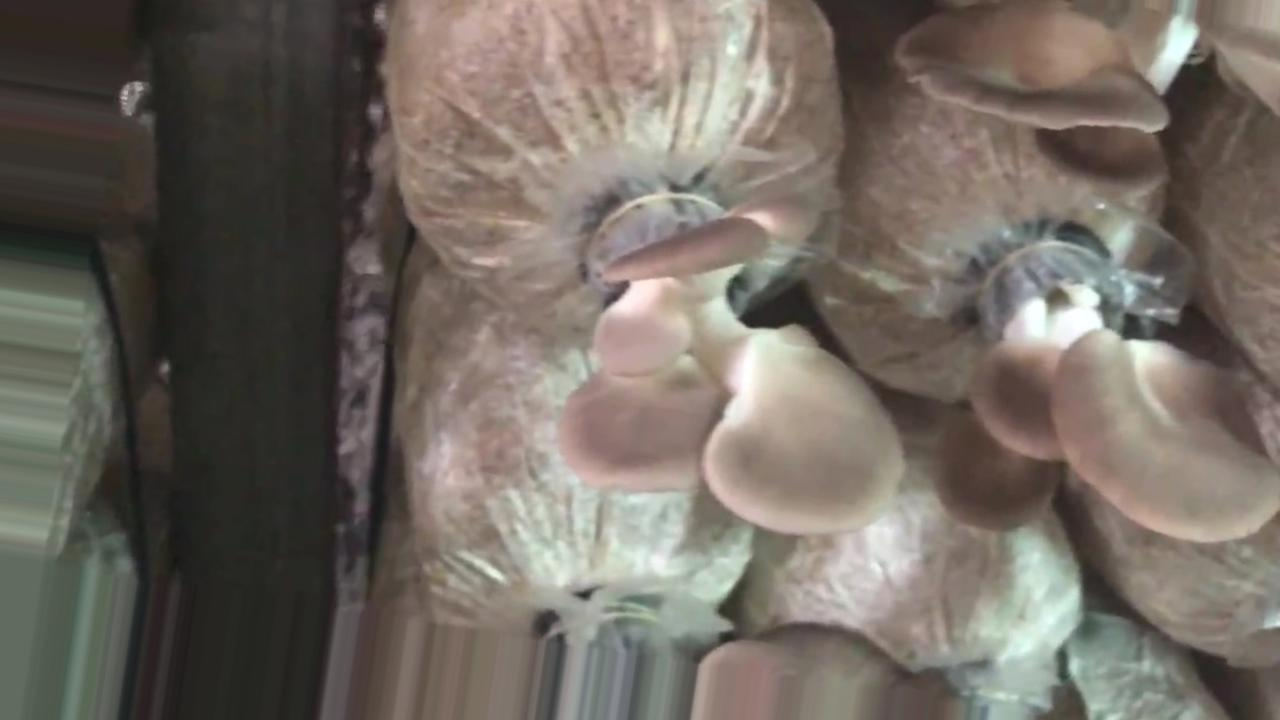nam: (570, 191, 888, 527), (961, 225, 1280, 547), (902, 5, 1166, 159)
